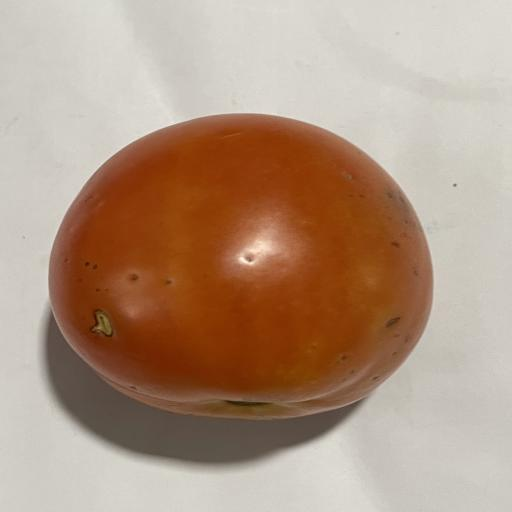ripe: (49, 114, 432, 419)
